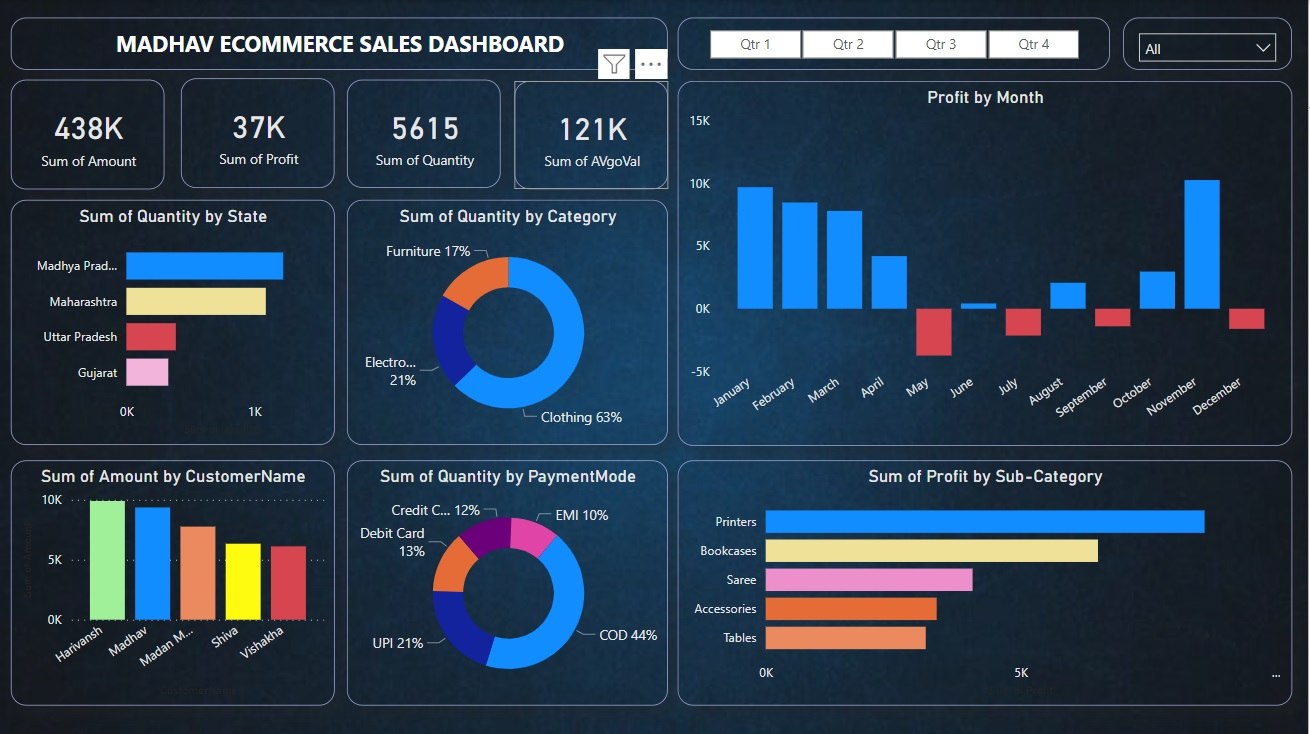

This screenshot's page, from the dashboard's own definition file:
{"tool":"powerbi","page":{"name":"Page 1","canvas":[1280,720],"ordinal":0},"visuals":[{"type":"textbox","box":[10.7,17.4,642.7,51],"z":0},{"type":"columnChart","title":"Profit by Month","fields":{"Category":["Orders.Order Date.Variation.Date Hierarchy.Month"],"Y":["Details.Profit"]},"box":[662.9,79.2,601.1,356.9],"z":1000},{"type":"clusteredBarChart","fields":{"Category":["Details.Sub-Category"],"Y":["Details.Profit"]},"box":[662.9,450.9,601.1,240.2],"z":2000},{"type":"donutChart","fields":{"Y":["Details.Quantity"],"Category":["Details.Category"]},"box":[339.5,195.9,314,240.2],"z":3000},{"type":"donutChart","fields":{"Y":["Details.Quantity"],"Category":["Details.PaymentMode"]},"box":[339.5,450.9,314,240.2],"z":4000},{"type":"card","fields":{"Values":["Details.Amount"]},"box":[10.7,77.8,150.3,107.3],"z":5000},{"type":"card","fields":{"Values":["Details.Profit"]},"box":[177.1,76.5,150.3,107.3],"z":6000},{"type":"card","fields":{"Values":["Details.AVgoVal"]},"box":[503.2,79.2,150.3,106],"z":7000},{"type":"card","fields":{"Values":["Details.Quantity"]},"box":[339.5,77.8,150.3,106],"z":8000},{"type":"clusteredBarChart","fields":{"Category":["Orders.State"],"Y":["Details.Quantity"]},"box":[10.7,195.9,316.7,240.2],"z":9000},{"type":"columnChart","fields":{"Category":["Orders.CustomerName"],"Y":["Details.Amount"]},"box":[10.7,450.9,316.7,240.2],"z":10000},{"type":"slicer","fields":{"Values":["Orders.Order Date.Variation.Date Hierarchy.Quarter"]},"box":[662.9,17.4,422.7,51],"z":11000},{"type":"slicer","fields":{"Values":["Orders.State"]},"box":[1099,17.4,165,51],"z":12000}]}

Visuals, with their boxes in screenshot pixels (x1, y1, x2, y2), scaled from the page's 1280x720 canvas onto the 1310x734 screenshot:
textbox: crop(11, 18, 669, 70)
"Profit by Month" columnChart: crop(678, 81, 1294, 445)
clusteredBarChart - Details.Sub-Category x Details.Profit: crop(678, 460, 1294, 705)
donutChart - Details.Quantity x Details.Category: crop(347, 200, 669, 445)
donutChart - Details.Quantity x Details.PaymentMode: crop(347, 460, 669, 705)
card - Details.Amount: crop(11, 79, 165, 189)
card - Details.Profit: crop(181, 78, 335, 187)
card - Details.AVgoVal: crop(515, 81, 669, 189)
card - Details.Quantity: crop(347, 79, 501, 187)
clusteredBarChart - Orders.State x Details.Quantity: crop(11, 200, 335, 445)
columnChart - Orders.CustomerName x Details.Amount: crop(11, 460, 335, 705)
slicer - Orders.Order Date.Variation.Date Hierarchy.Quarter: crop(678, 18, 1111, 70)
slicer - Orders.State: crop(1125, 18, 1294, 70)
